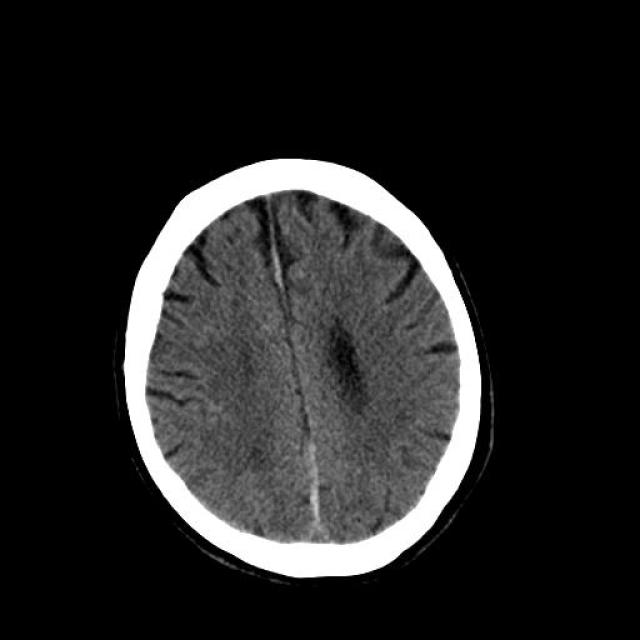Subdural: (284, 428, 361, 558)
